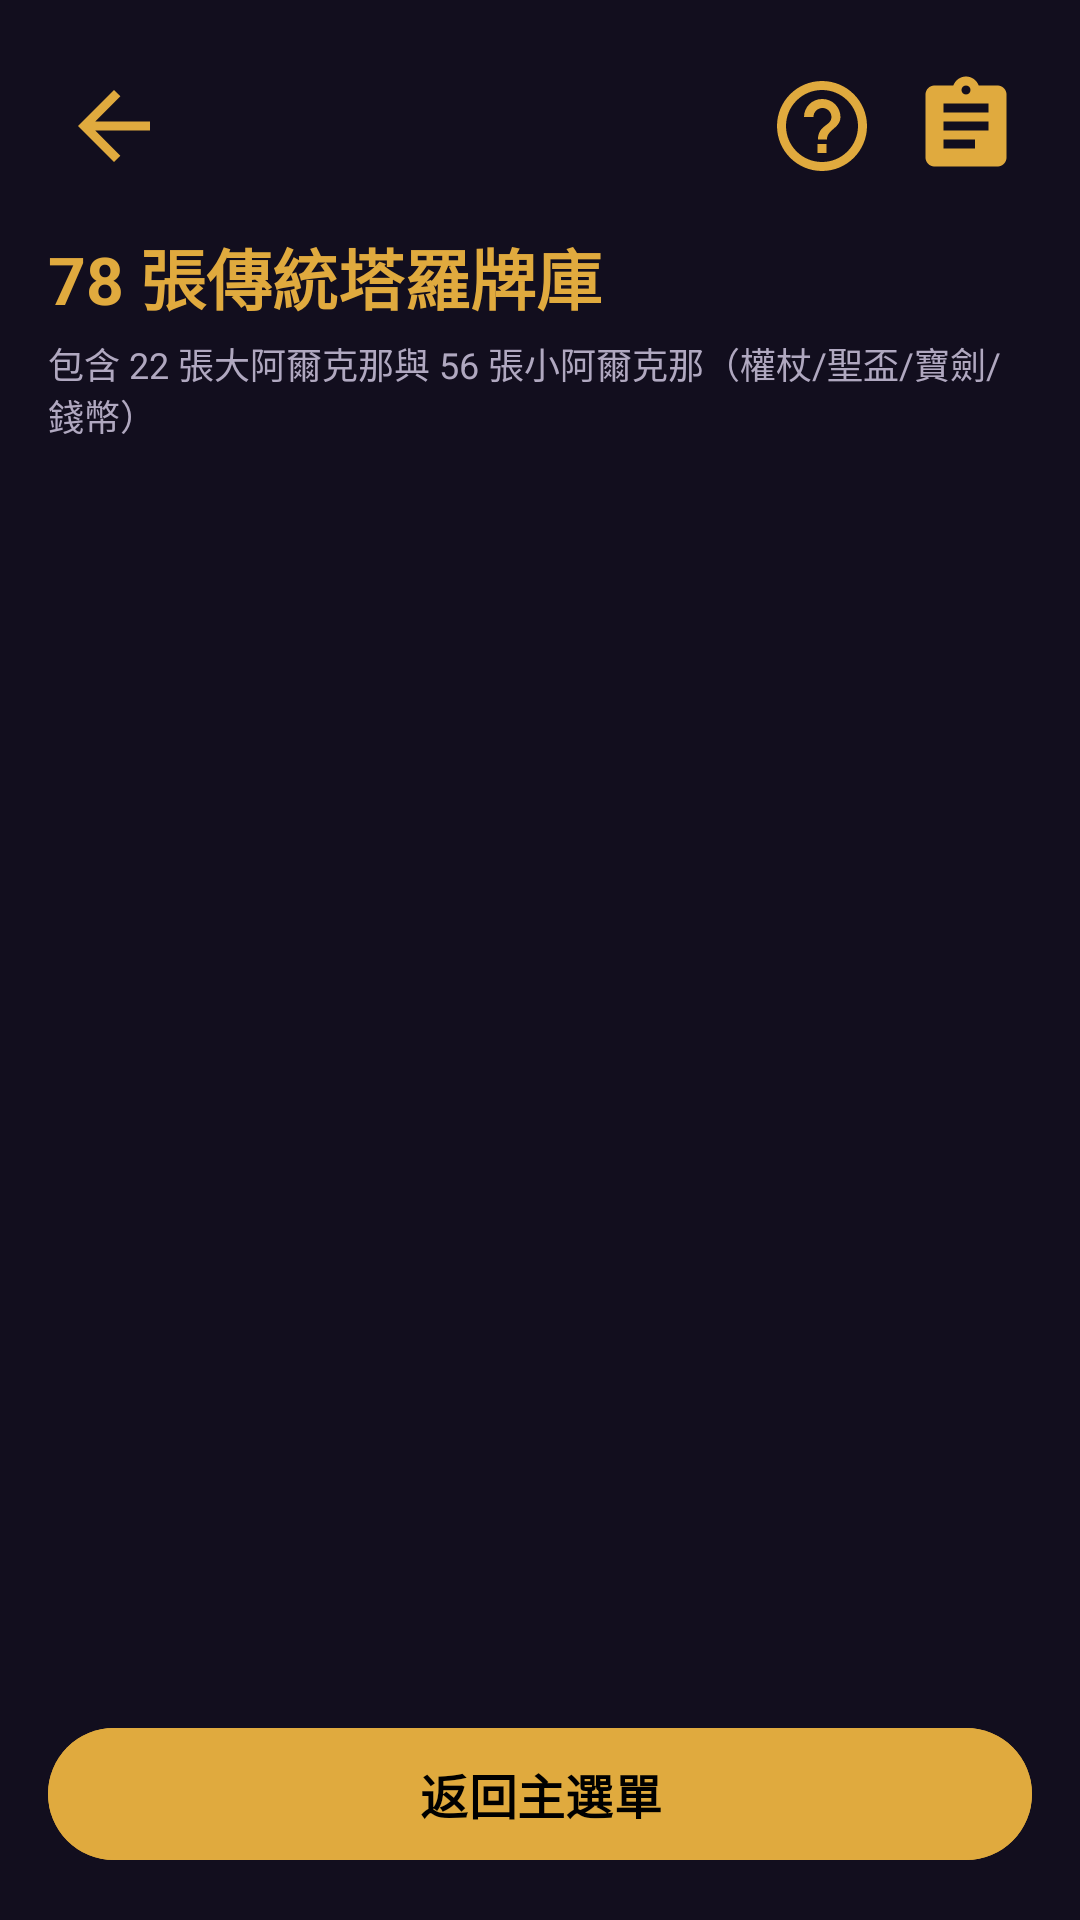

Icons on this 1080×1920 Android screen, each with the point to tap as (x,y):
使用說明: (822,126)
歷史記事本: (966,121)
返回上一頁: (114,126)
